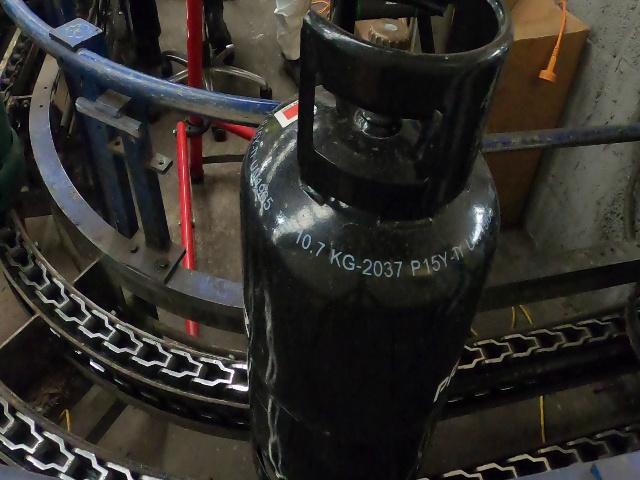gas_bottle: (1, 0, 640, 479)
